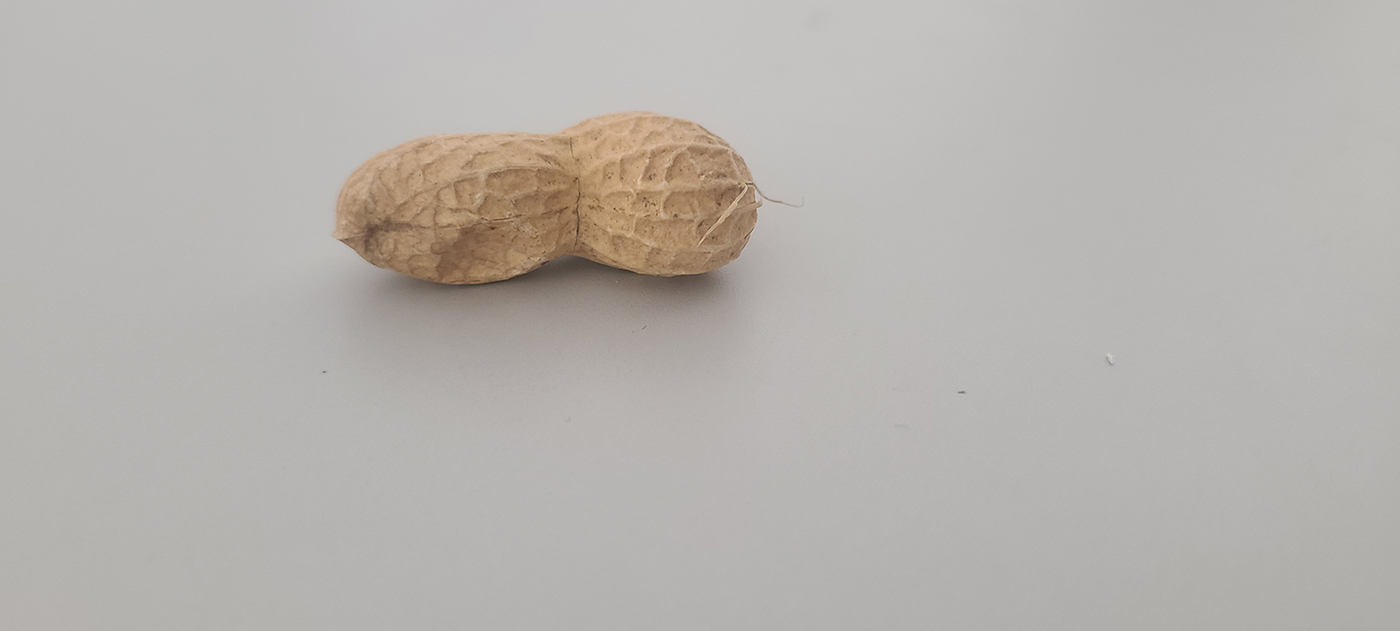h: (327, 110, 760, 287)
